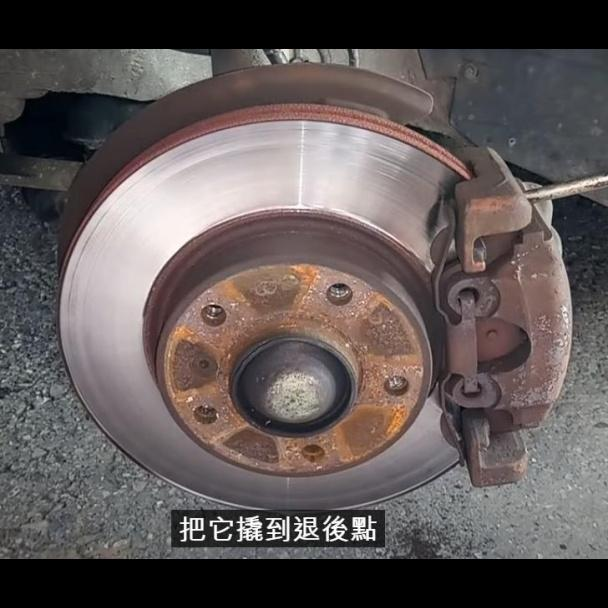hole: (324, 279, 355, 308), (198, 302, 229, 328), (188, 403, 219, 425), (383, 373, 410, 397)
